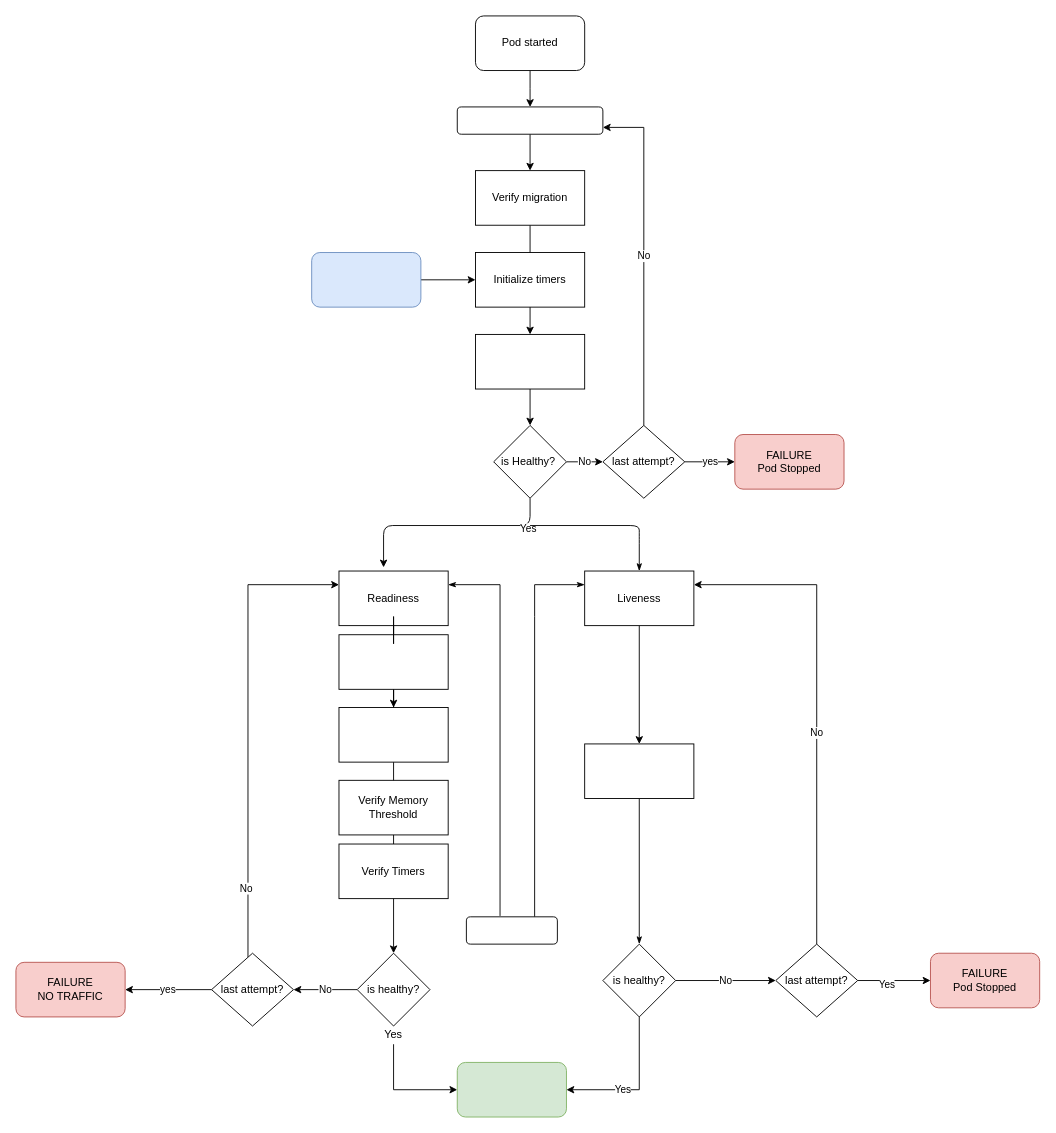
Image size: 1056x1133. Some labels were removed from this diagram. The shapes that lost their labels are listed below. From the top down, each one's centre as x and y in pixels, then its label:
At point 529,120: "Startup Attempts :?".
At point 366,279: "Distribute lock".
At point 530,361: "Initialize subscribers".
At point 393,661: "Verify Redis".
At point 393,734: "Verify Kafka".
At point 639,771: "Request to verify".
At point 511,930: "Wait delay".
At point 511,1089: "Pod running and receiving traffic".
